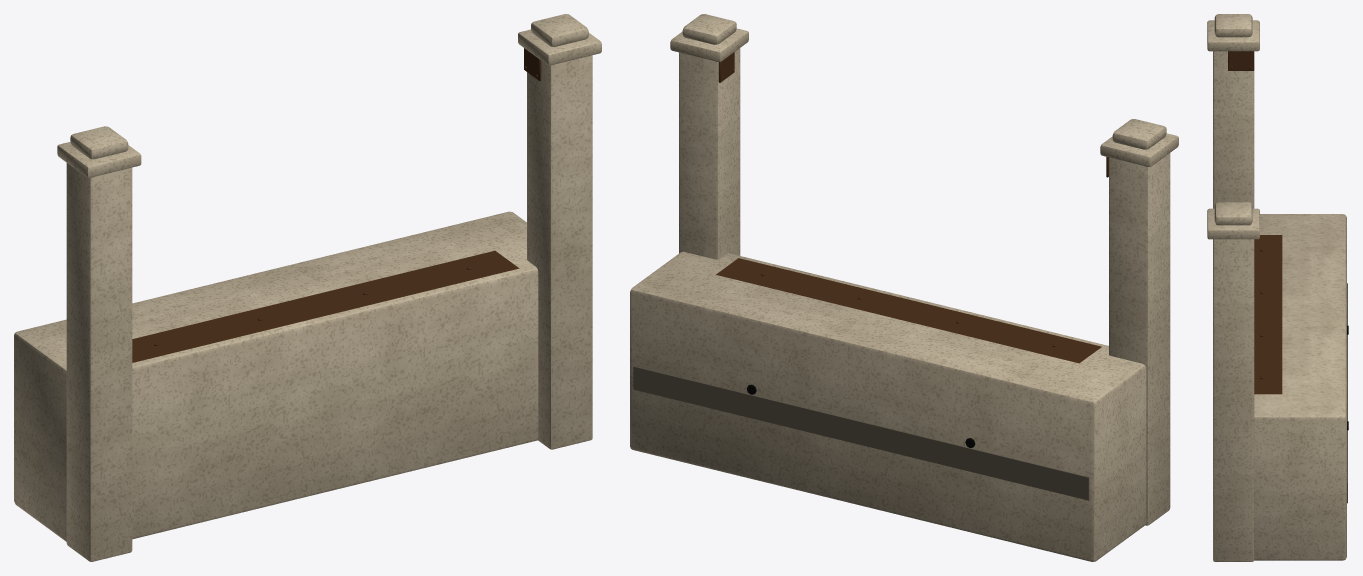
File: bridge-abutment-garden.lod0.glb
The picture shows the model from 3 angles, left to right: view 1: azimuth 30°, elevation 25°; view 2: azimuth 150°, elevation 25°; view 3: azimuth 270°, elevation 25°; orthographic projection. The views are drawn at different scales.
Parts seen in each view (by area): view 1: bridge_abutment_garden_Stone • warm limestone, bridge_abutment_garden_Trim • places palette; view 2: bridge_abutment_garden_Stone • warm limestone, bridge_abutment_garden_Trim • places palette; view 3: bridge_abutment_garden_Stone • warm limestone, bridge_abutment_garden_Trim • places palette.
Part boxes in pixels (x1=…): bridge_abutment_garden_Stone • warm limestone: x1=14, y1=14, x2=601, y2=561; bridge_abutment_garden_Trim • places palette: x1=132, y1=48, x2=541, y2=362; bridge_abutment_garden_Stone • warm limestone: x1=630, y1=14, x2=1178, y2=561; bridge_abutment_garden_Trim • places palette: x1=633, y1=52, x2=1108, y2=500; bridge_abutment_garden_Stone • warm limestone: x1=1207, y1=14, x2=1346, y2=561; bridge_abutment_garden_Trim • places palette: x1=1228, y1=51, x2=1348, y2=503.
Size of the model in its own units: 2.64 by 2.02 by 0.75.
2 materials, 2 textured.
